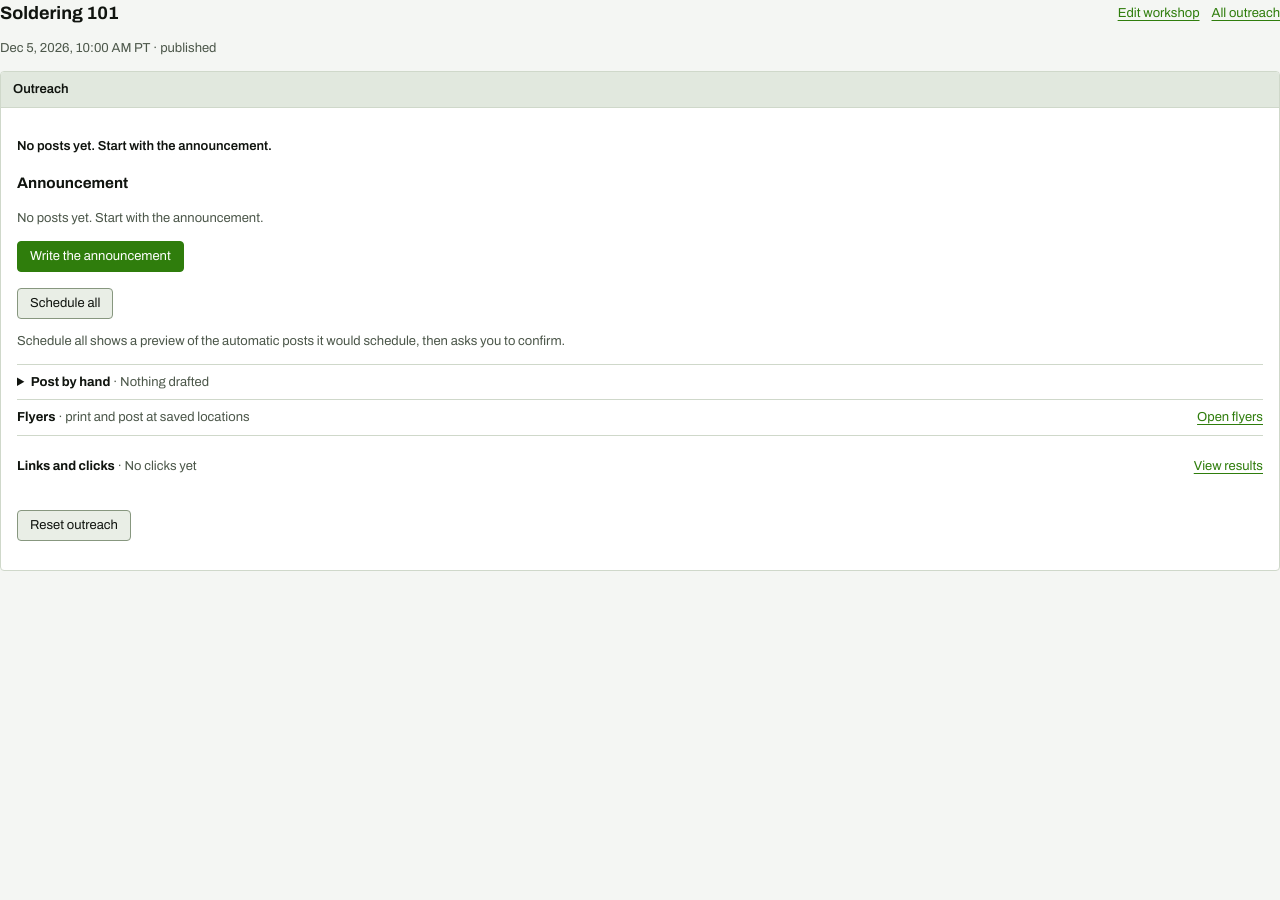
it: OutreachWorkshop › shows the server message in the dialog when reset is refused (#0592)
Click the button "Reset outreach" at {"x": 74, "y": 526}, box [17, 510, 131, 541]
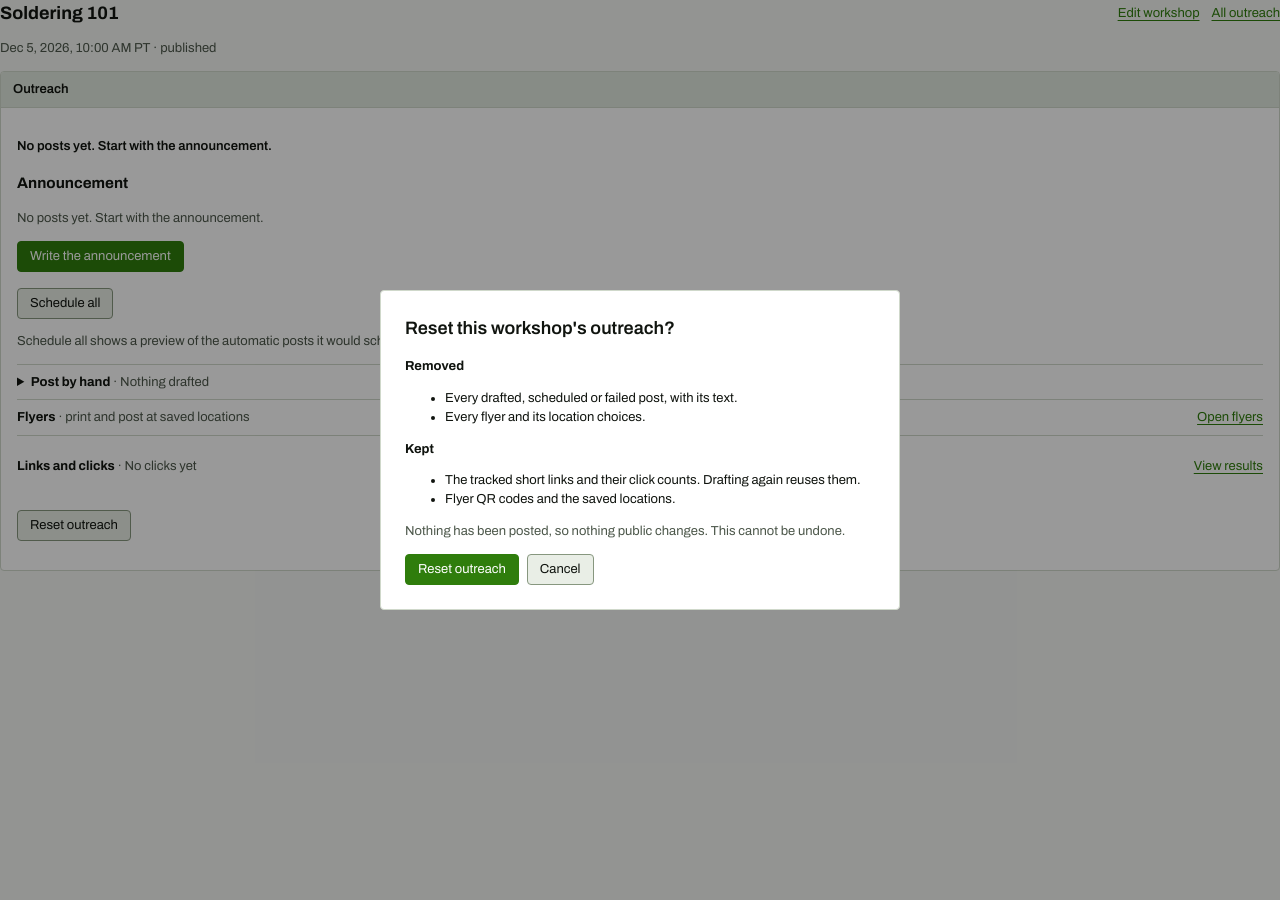
Click the button "Reset outreach" at {"x": 462, "y": 570}, box [405, 554, 519, 585]
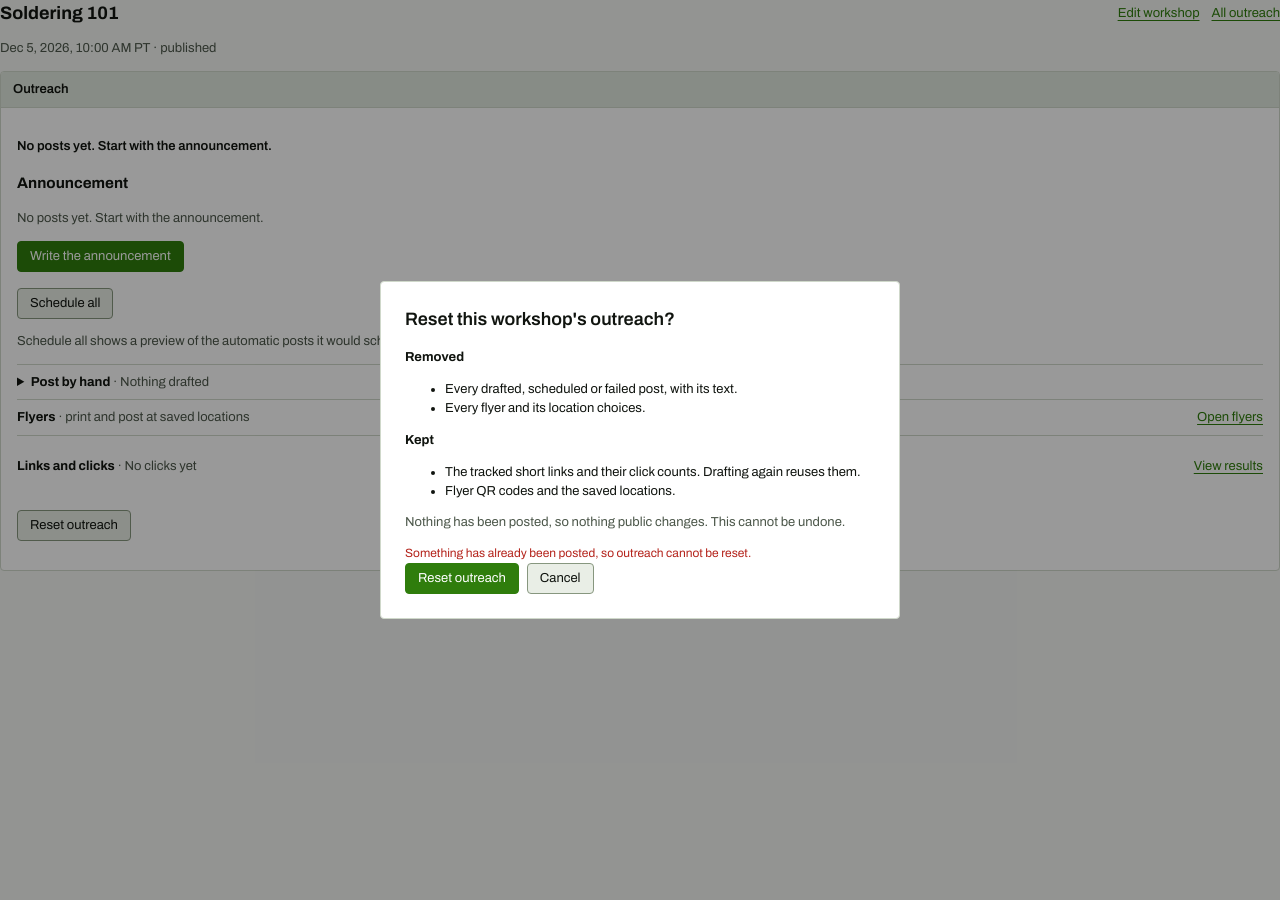
Expected: the dialog is shown, [380, 281, 900, 619]
Expected: the message "Something has already been posted, so outreach cannot be reset." is shown, [405, 546, 751, 560]
